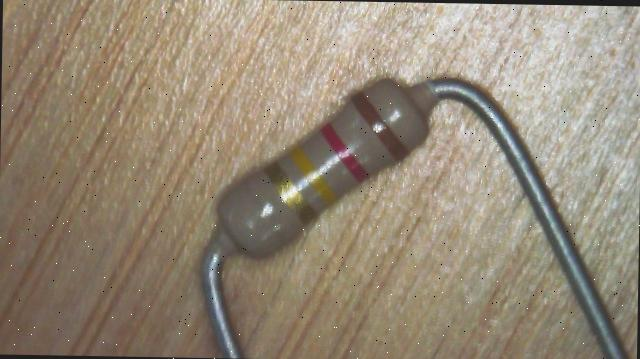brown: (351, 91, 412, 162)
gold: (266, 160, 318, 229)
red: (318, 120, 372, 186)
resistor: (178, 51, 457, 297)
yellow: (282, 142, 336, 205)
